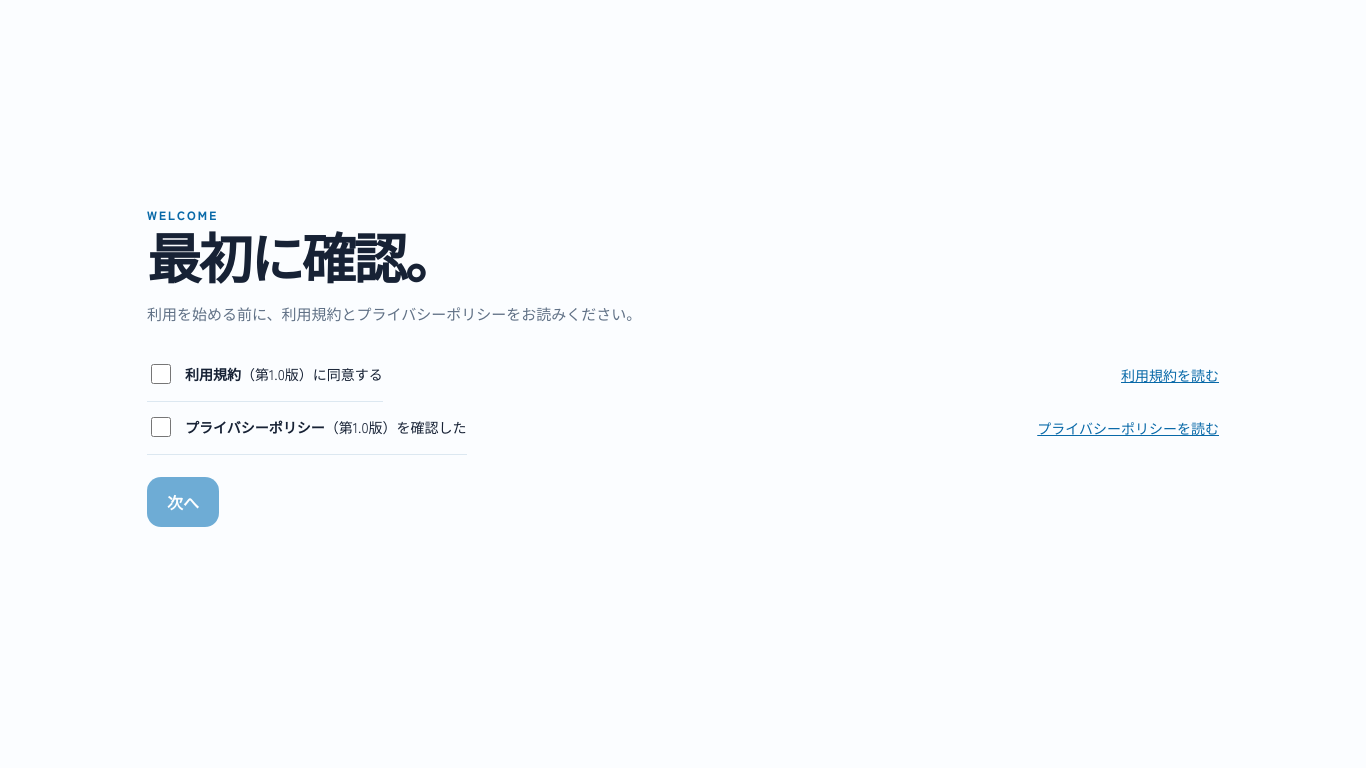
Test: document text is shown as text, never as HTML
The width and height of the screenshot is (1366, 768).
Click the button "利用規約を読む": (1170, 376) top-left (1121, 360), bottom-right (1219, 391)
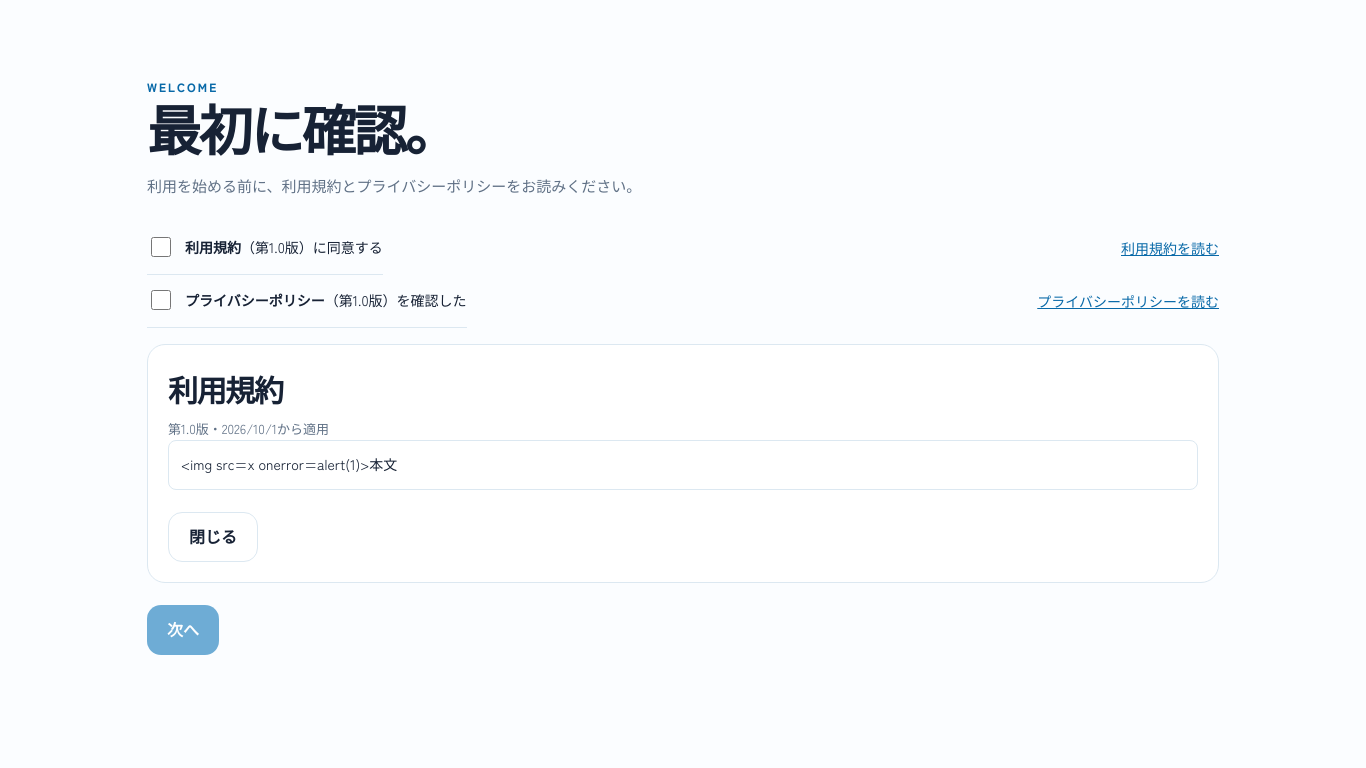
Now the dialog shows "<img src=x onerror=alert(1)>本文", box top-left (181, 454), bottom-right (397, 474)
